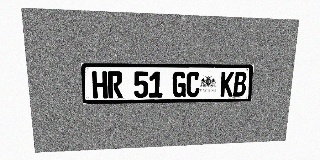1: (149, 71, 163, 98)
5: (134, 71, 148, 98)
B: (233, 72, 247, 96)
C: (186, 71, 200, 97)
G: (172, 71, 186, 97)
H: (92, 71, 108, 98)
K: (220, 72, 234, 97)
R: (107, 71, 123, 98)
